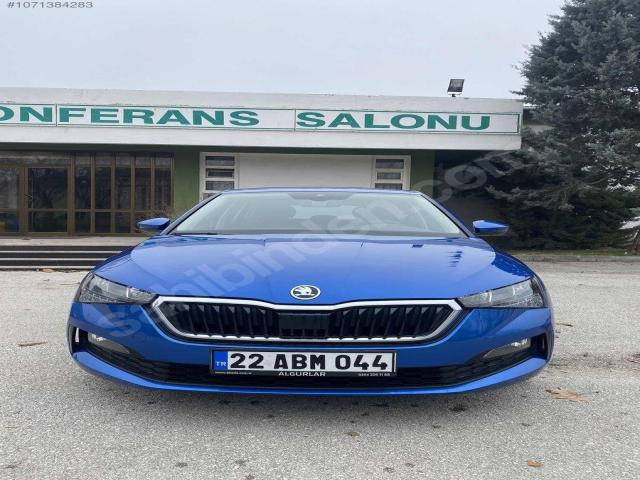plaka: (212, 351, 395, 376)
